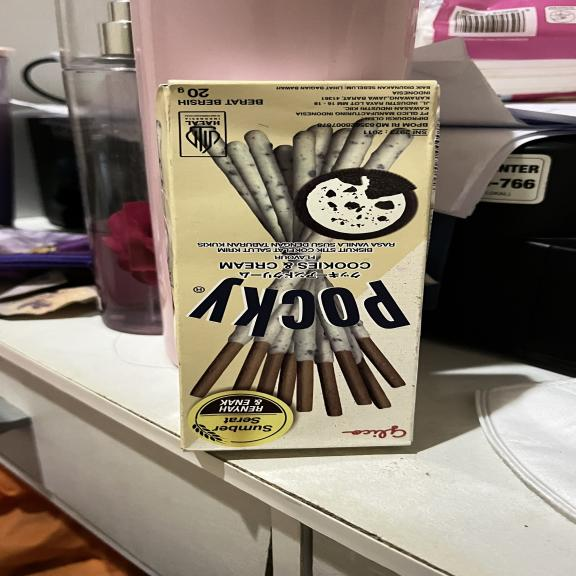Kertas: (163, 80, 442, 453)
